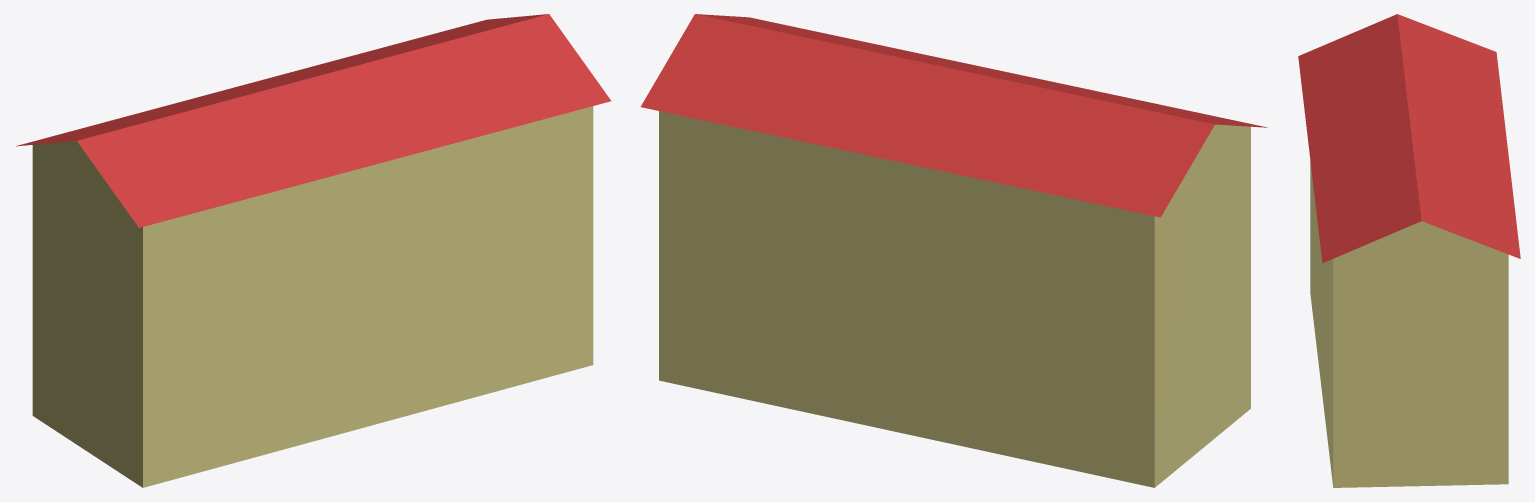
3 views of the same model, side by side, from view 1: azimuth 30°, elevation 25°; view 2: azimuth 150°, elevation 25°; view 3: azimuth 270°, elevation 25° (orthographic). The views are drawn at different scales.
Bounding box in the file's own units: 21.68 × 9.73 × 13.11.
